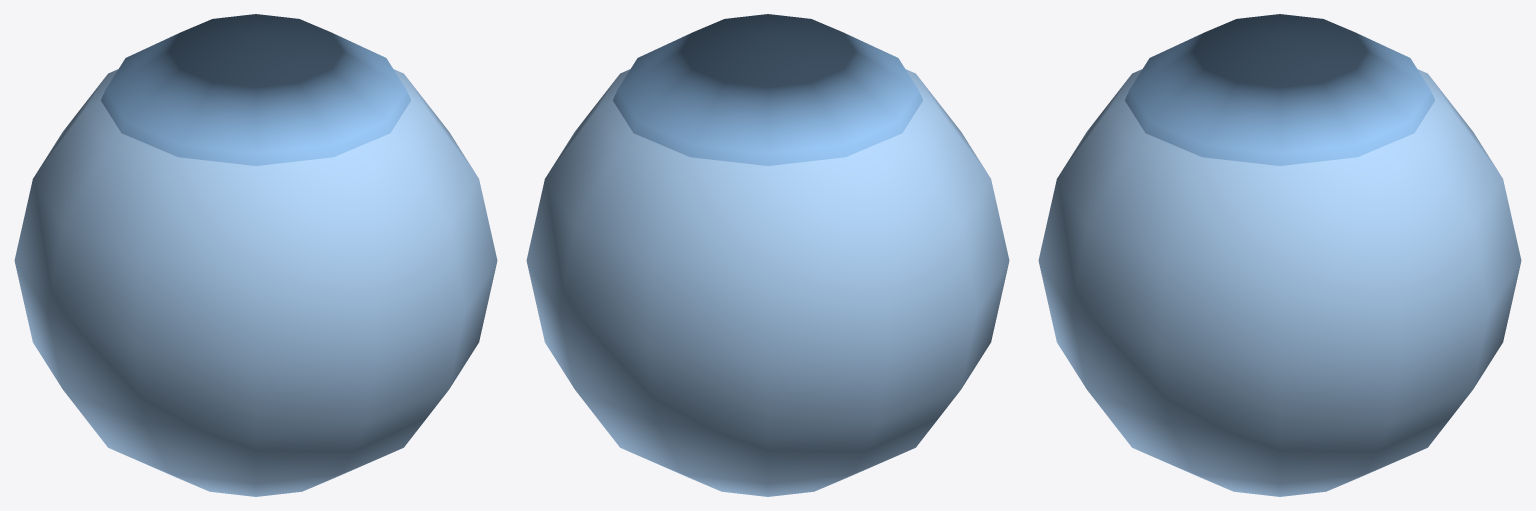
File: lantern_eel_eye.glb
The picture shows the model from 3 angles, left to right: view 1: azimuth 30°, elevation 25°; view 2: azimuth 150°, elevation 25°; view 3: azimuth 270°, elevation 25°; orthographic projection.
Parts seen in each view (by area): view 1: lantern_eel_eye; view 2: lantern_eel_eye; view 3: lantern_eel_eye.
Part boxes in pixels (<box>): lantern_eel_eye: <box>14,14,497,496</box>; lantern_eel_eye: <box>526,14,1009,496</box>; lantern_eel_eye: <box>1038,14,1521,496</box>.
Size of the model in its own units: 0.01 by 0.01 by 0.01.
